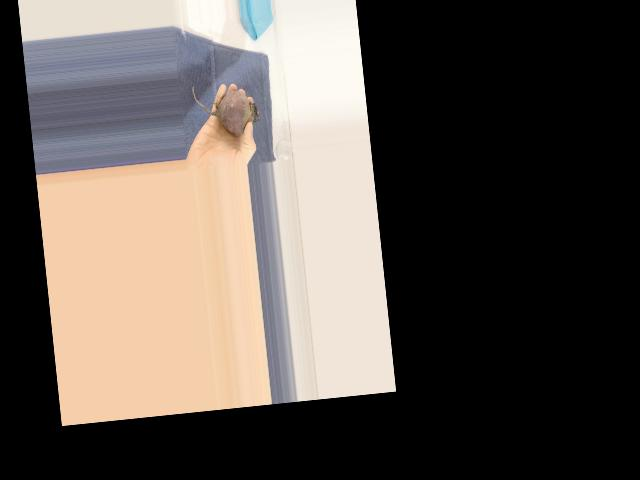beet: (191, 78, 260, 140)
